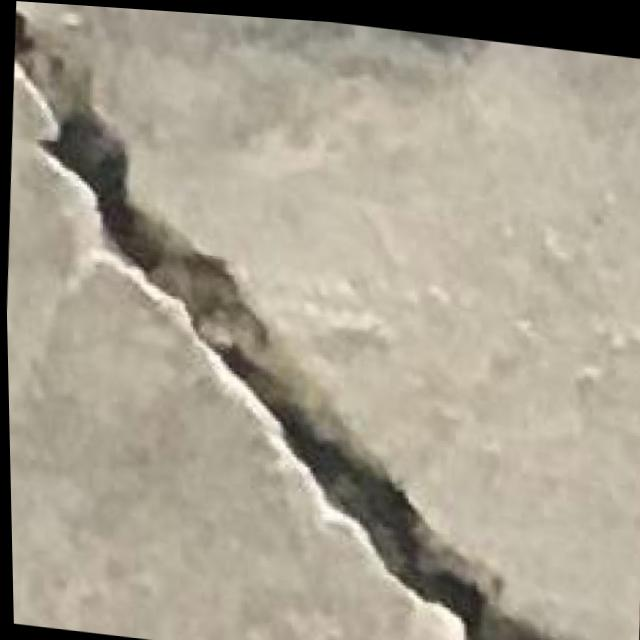Crack: (2, 121, 632, 640)
